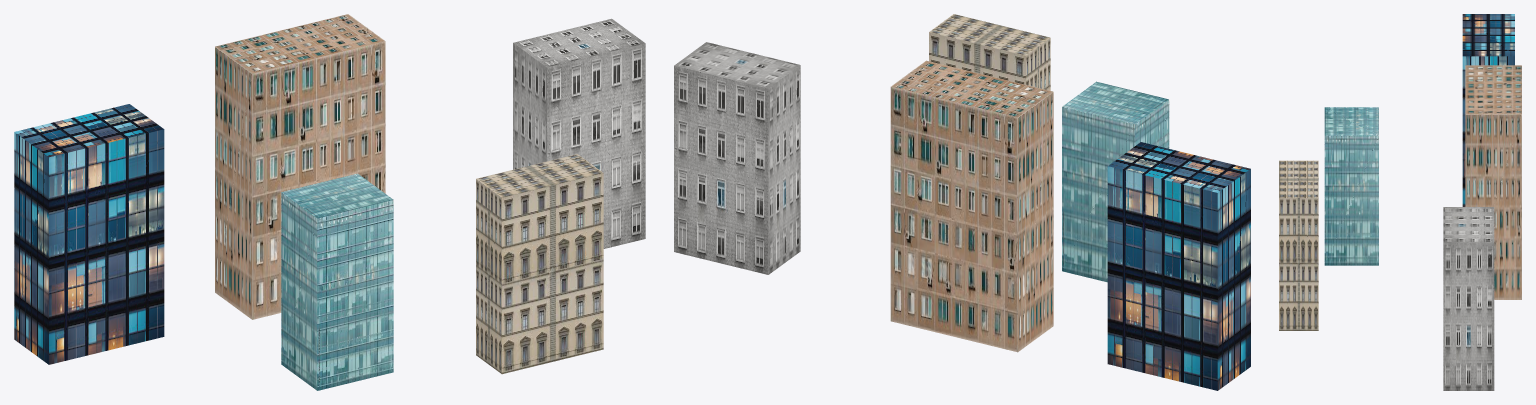
Rendered from buildings3.gltf.
3 views of the same model, side by side, from view 1: azimuth 30°, elevation 25°; view 2: azimuth 150°, elevation 25°; view 3: azimuth 270°, elevation 25° (orthographic). The views are drawn at different scales.
Parts seen in each view (by area): view 1: Box_3, Box, Box_2, Box_1, Box_4; view 2: Box, Box_3, Box_4, Box_1, Box_2; view 3: Box, Box_4, Box_1, Box_2, Box_3.
Part boxes in pixels (left/top/right/bottom): Box_3: left=14, top=104, right=164, bottom=364; Box: left=215, top=14, right=385, bottom=319; Box_2: left=476, top=154, right=603, bottom=374; Box_1: left=281, top=173, right=393, bottom=390; Box_4: left=513, top=18, right=645, bottom=248; Box: left=890, top=60, right=1053, bottom=352; Box_3: left=1107, top=142, right=1250, bottom=390; Box_4: left=674, top=42, right=800, bottom=274; Box_1: left=1062, top=81, right=1169, bottom=282; Box_2: left=929, top=14, right=1050, bottom=90; Box: left=1465, top=65, right=1521, bottom=299; Box_4: left=1443, top=207, right=1494, bottom=390; Box_1: left=1324, top=107, right=1378, bottom=265; Box_2: left=1279, top=160, right=1318, bottom=330; Box_3: left=1462, top=14, right=1514, bottom=206.
Size of the model in its own units: 18.52 by 7.47 by 8.83.
5 materials, 5 textured.
